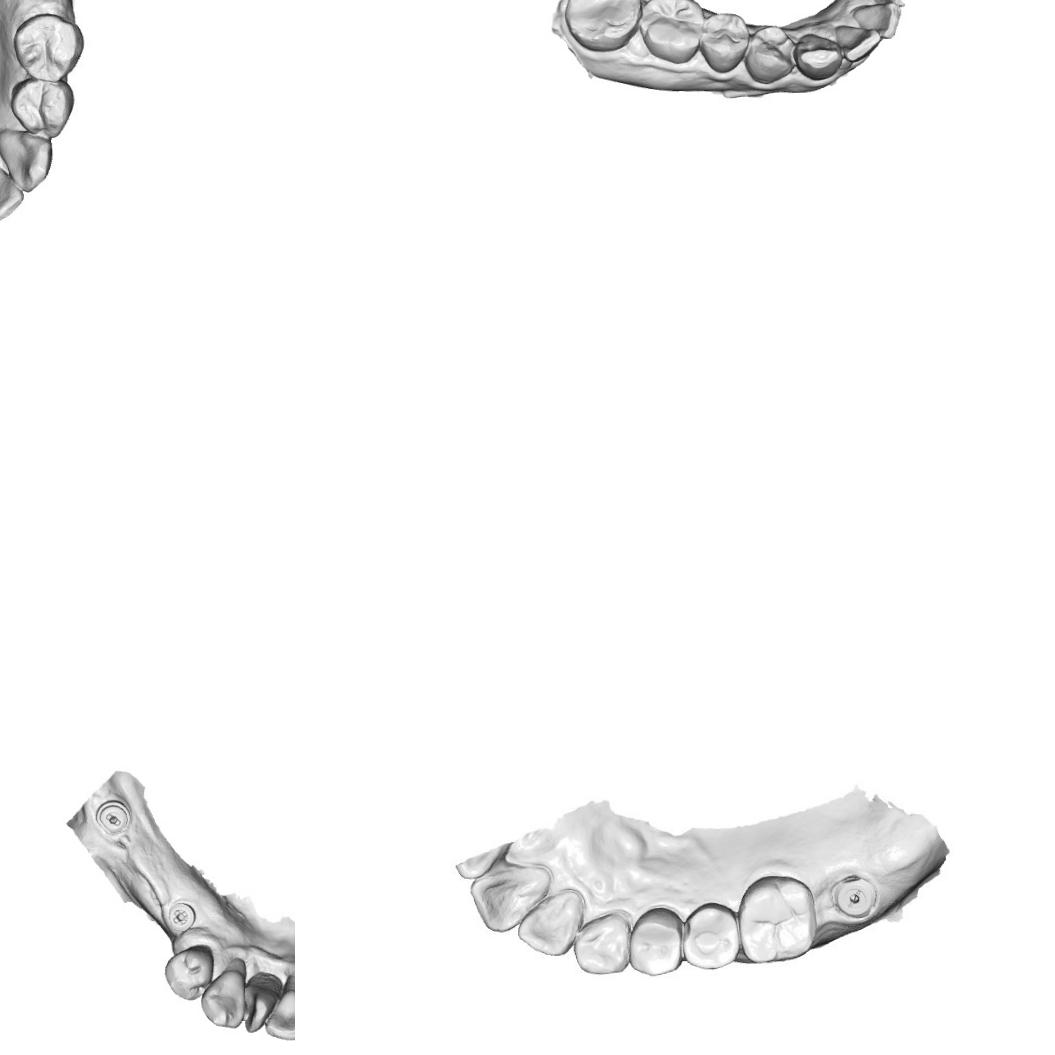canine: (569, 906, 634, 977), (0, 125, 56, 194), (198, 968, 247, 1031), (792, 30, 844, 83)
implant_minus: (832, 872, 882, 918), (94, 798, 133, 836)
implant_plus: (164, 899, 198, 934)
incisor: (468, 864, 550, 936), (511, 892, 584, 958), (849, 0, 905, 42), (833, 22, 882, 65), (239, 981, 275, 1034), (261, 986, 295, 1041), (0, 155, 21, 218)
molar: (735, 872, 816, 965), (635, 0, 706, 66), (562, 0, 645, 54)
premolar: (15, 7, 83, 72), (680, 900, 740, 972), (628, 908, 685, 976), (15, 74, 74, 139), (698, 10, 753, 75), (742, 22, 797, 86), (162, 942, 217, 1005)
